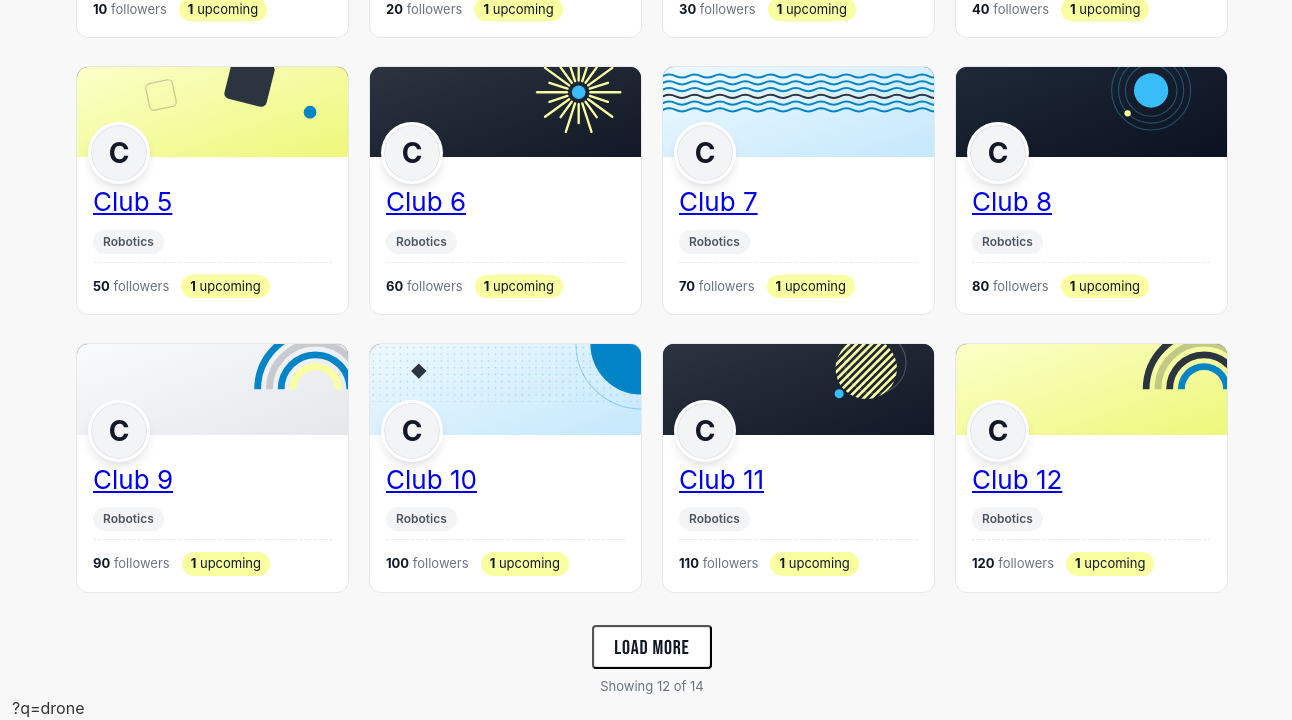
find clubs › reads later pages in the browser, everywhere
The width and height of the screenshot is (1292, 720).
(page scrolled)
Click the button "Load more" at {"x": 652, "y": 647}, box [592, 625, 712, 669]
(page scrolled)
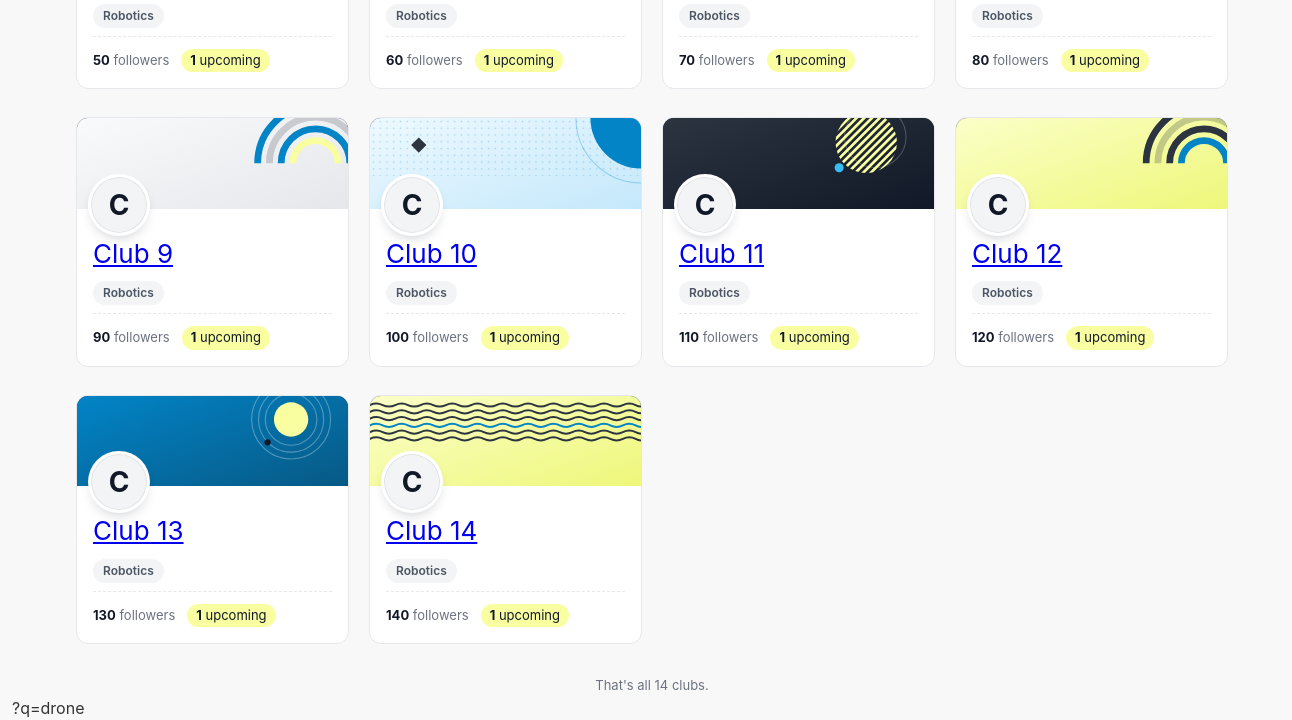
Check: the link "Club 14" is shown, box [386, 515, 477, 546]
